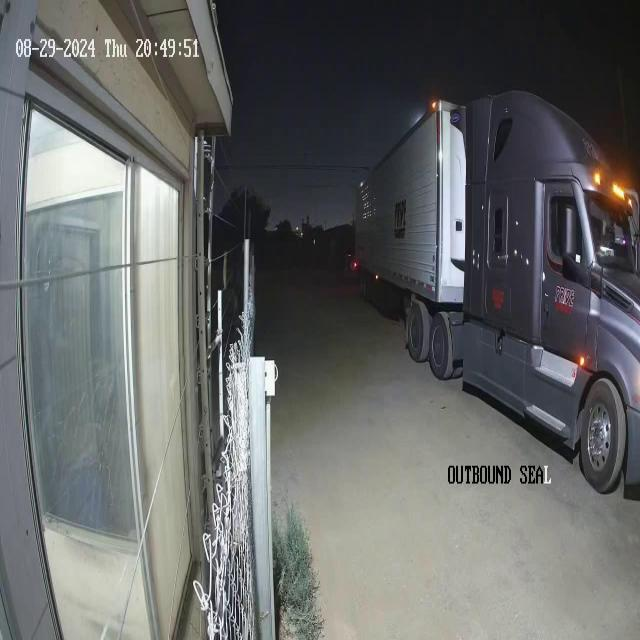CONTAINER: (354, 88, 474, 312)
